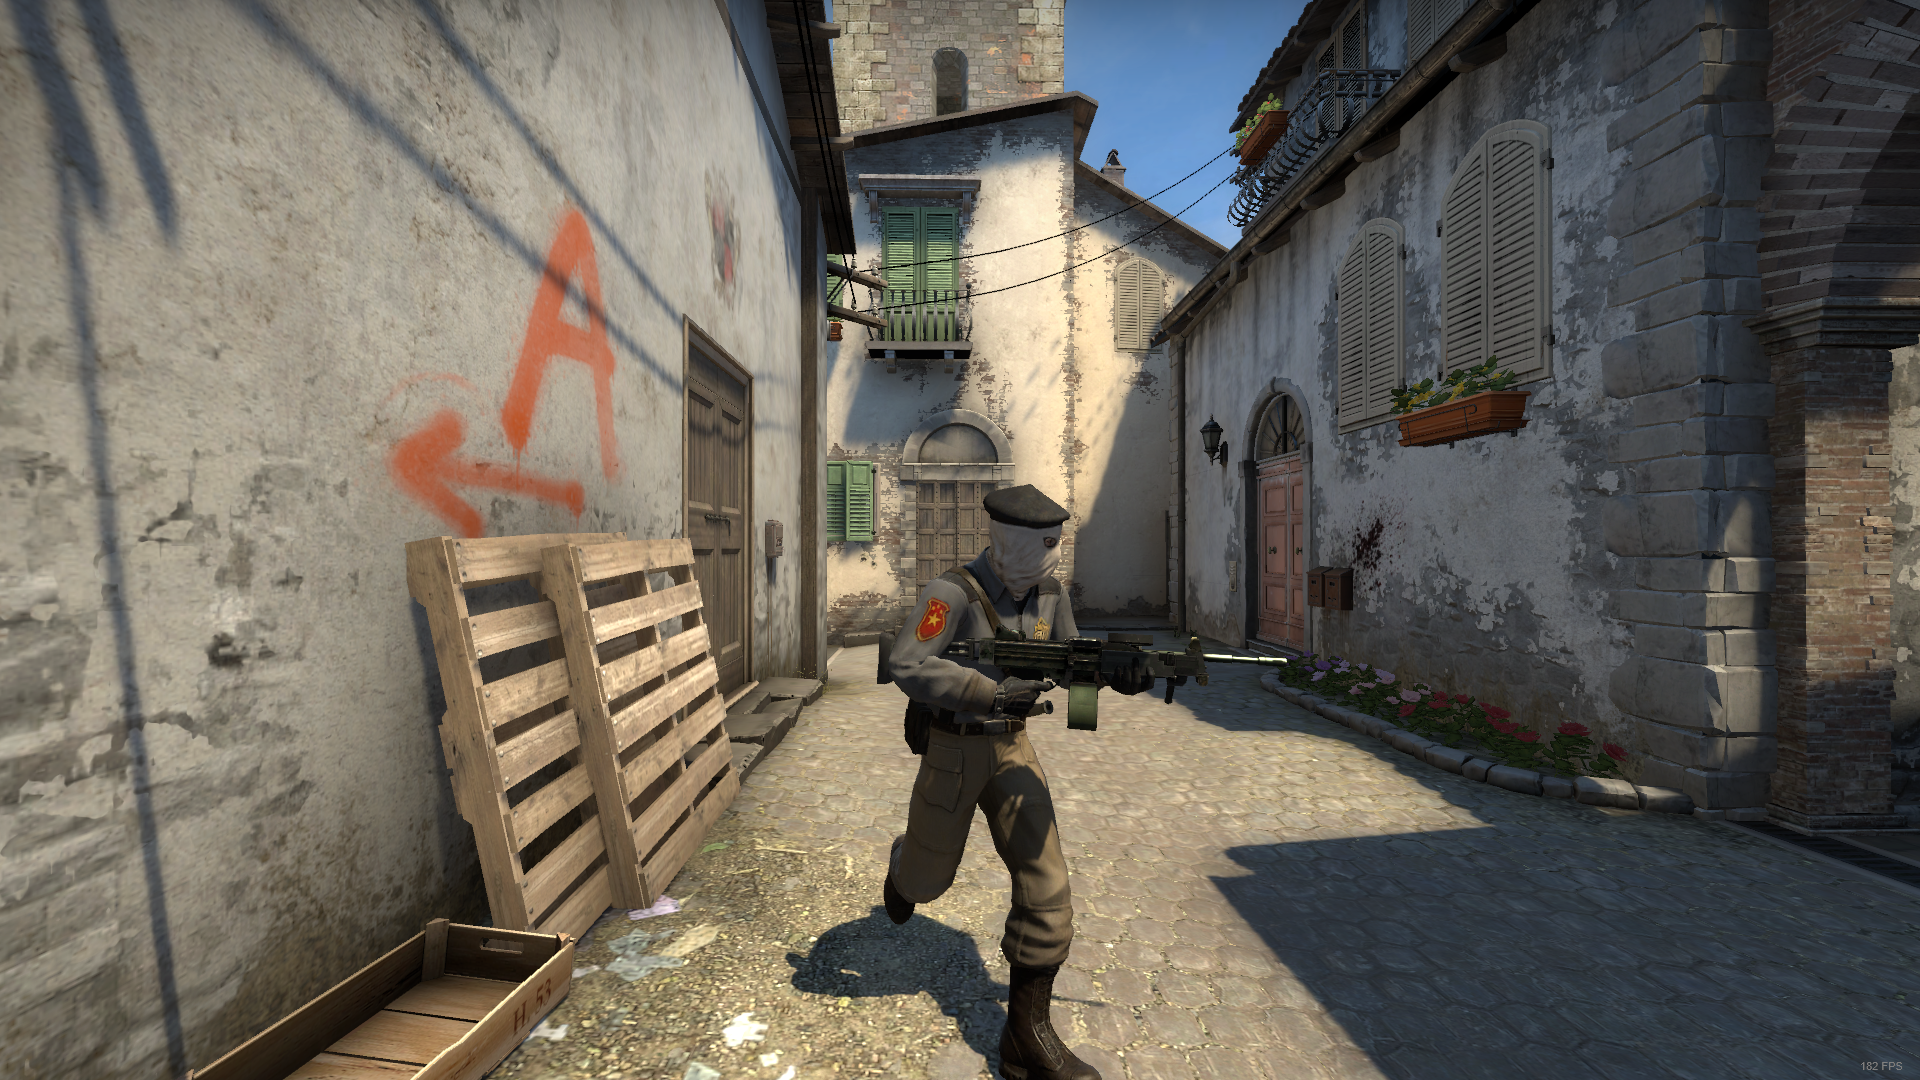t: (874, 491, 1131, 1080)
